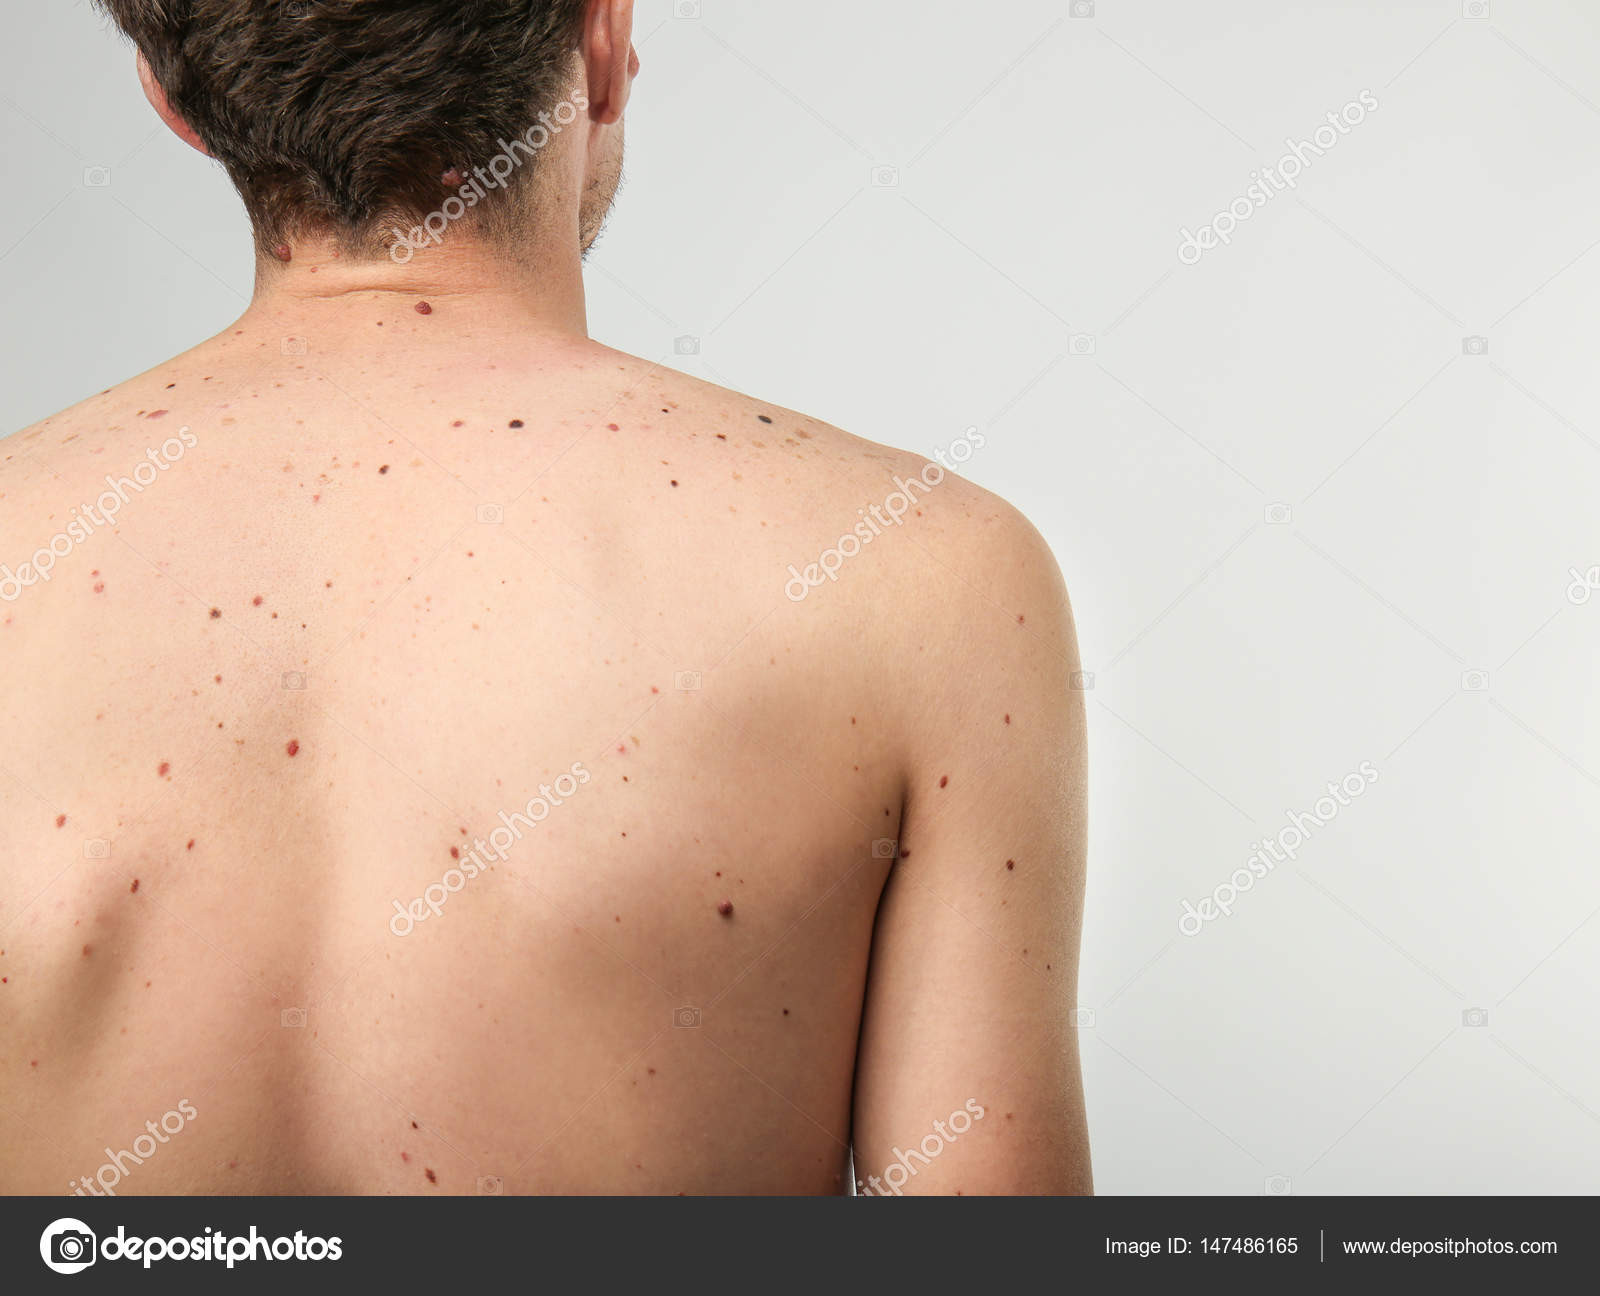mole: (706, 891, 752, 938), (190, 588, 229, 629), (270, 729, 309, 760), (496, 409, 532, 436)
